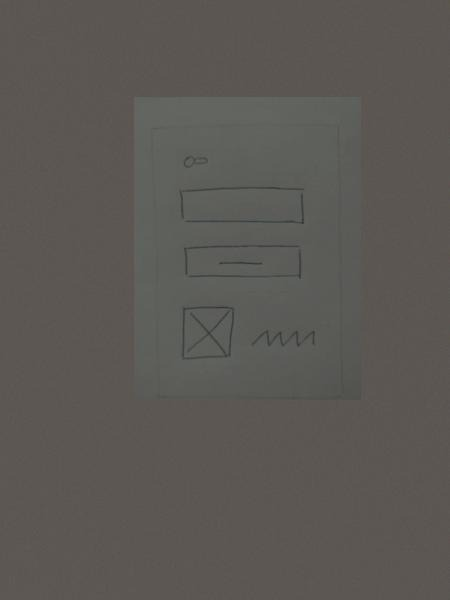button: (177, 242, 309, 283)
image: (174, 301, 242, 366)
switch: (178, 151, 212, 172)
text: (250, 322, 324, 355)
text_input: (177, 185, 311, 230)
